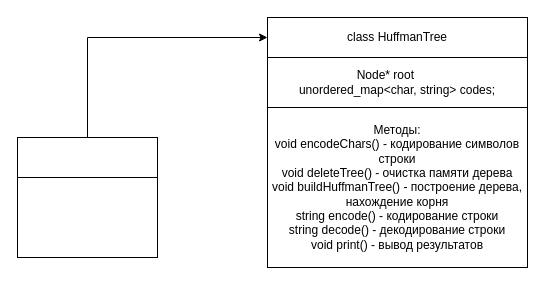
Image size: 545x285. Some labels were removed from this diagram. The shapes that lost their labels are listed below. From the top down, each one's centre as x and y in pixels, then its label:
At (x=87, y=157): "class Node".
At (x=87, y=217): "char ch int frequency; Node* left; Node* right;".
